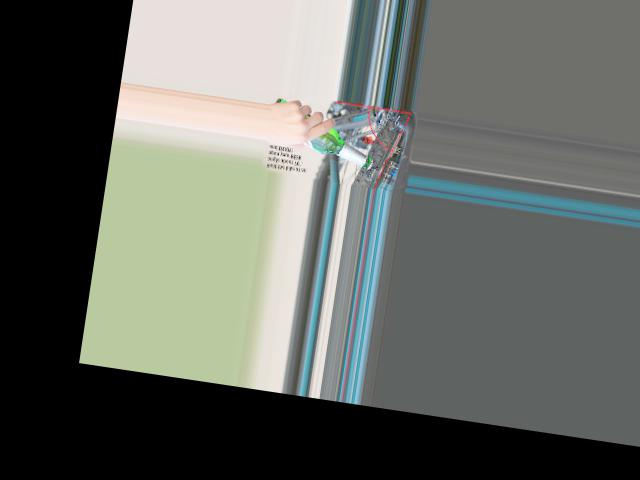beer: (268, 97, 382, 170)
